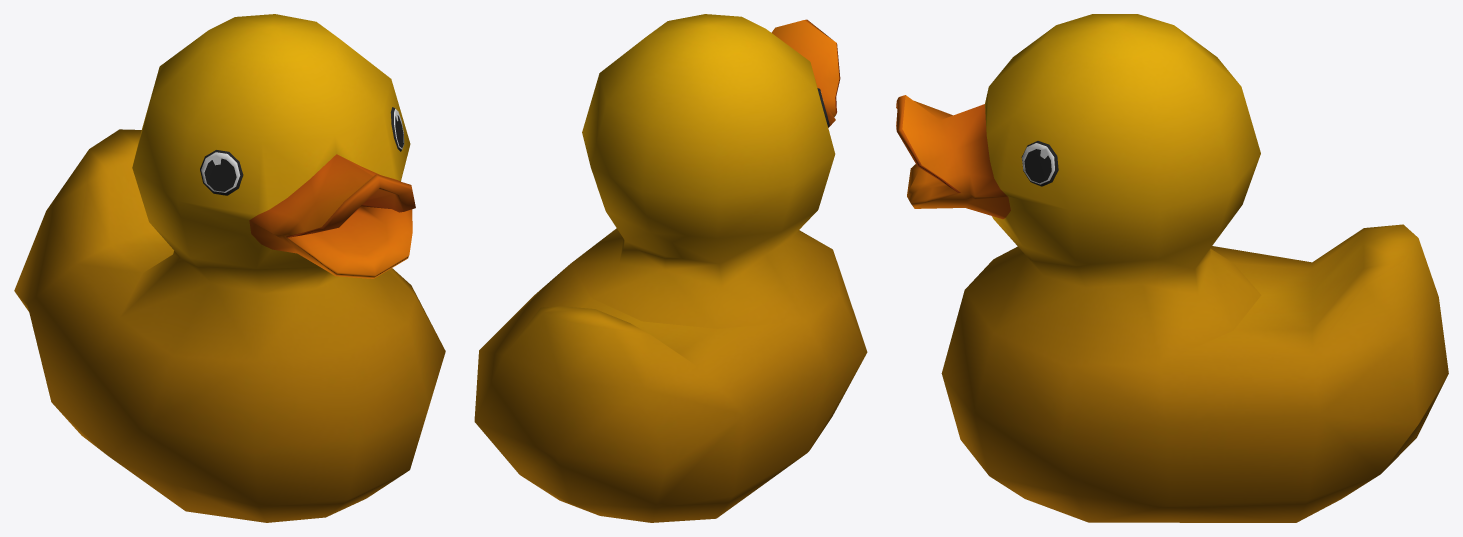
Rendered from DuckyMesh.gltf.
3 renders of one model, left to right at view 1: azimuth 30°, elevation 25°; view 2: azimuth 150°, elevation 25°; view 3: azimuth 270°, elevation 25°, orthographic. The views are drawn at different scales.
Parts seen in each view (by area): view 1: Ducky; view 2: Ducky; view 3: Ducky.
Part boxes in pixels (bbox=[...]): Ducky: bbox=[14, 14, 445, 522]; Ducky: bbox=[474, 14, 867, 522]; Ducky: bbox=[896, 14, 1448, 522].
Size of the model in its own units: 0.1206 by 0.1602 by 0.1784.
1 material, 1 textured.
